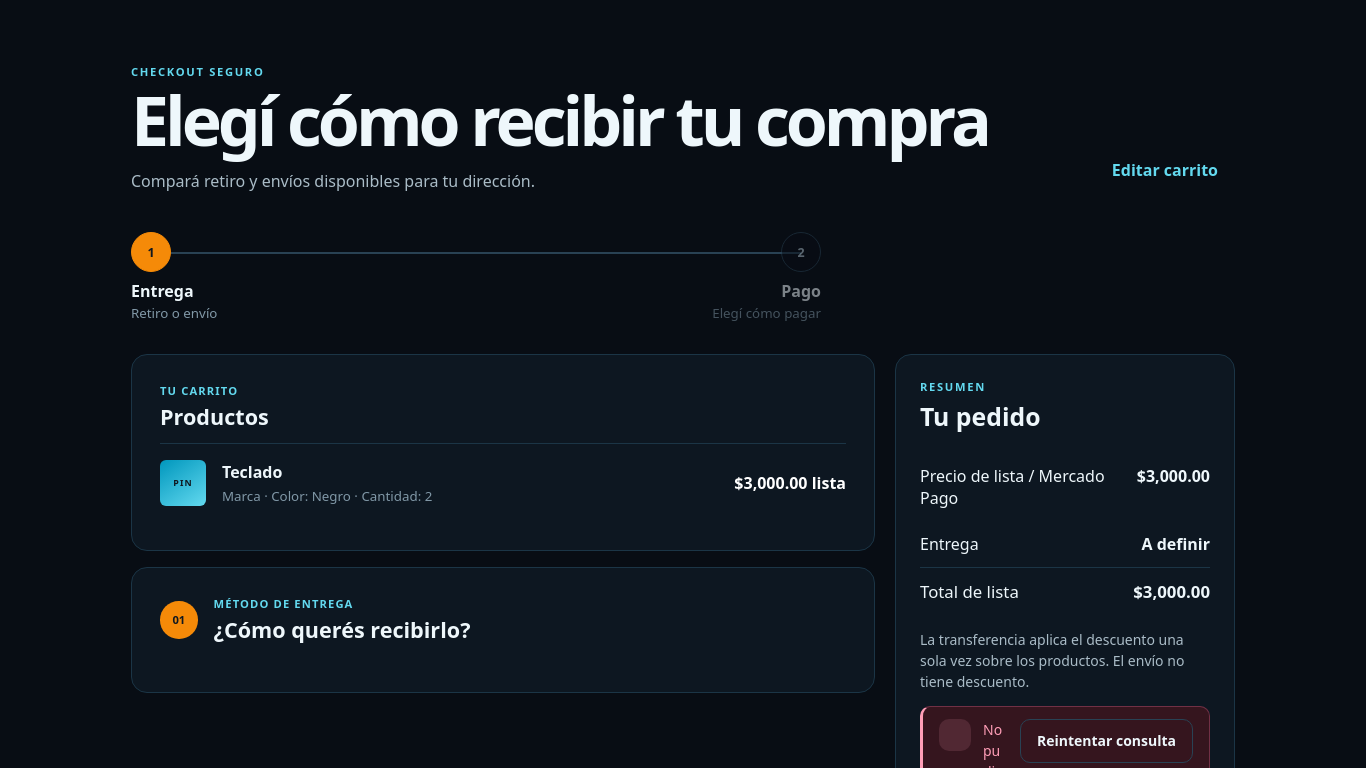
Scenario: CheckoutComponent › keeps the capabilities retry control mounted while retrying
Click the button "Reintentar consulta": (1106, 741) [1020,719,1193,763]
(page scrolled)
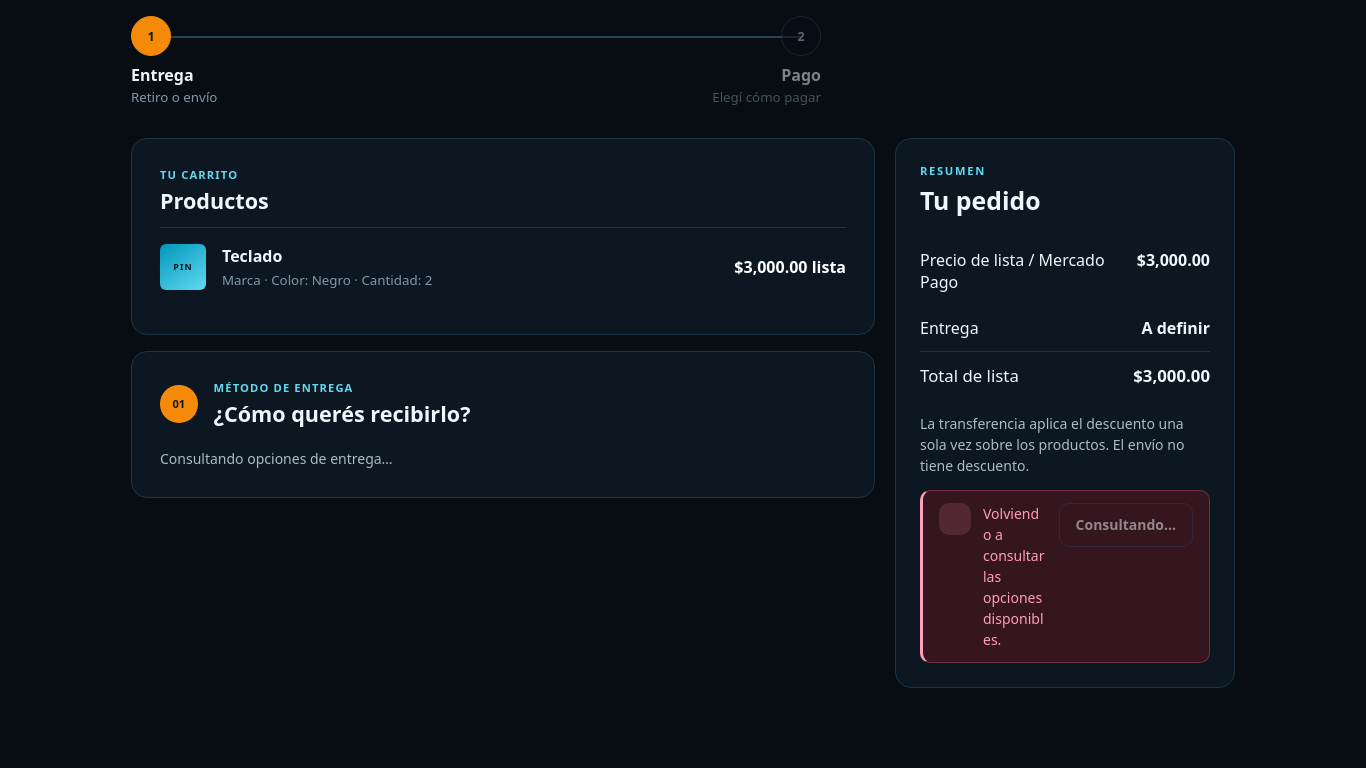
Check: the button "Consultando…" is disabled, box [1059,503,1193,547]
Check: the message with class "app-feedback__body" shows "Volviendo a consultar", box [983,504,1044,649]
